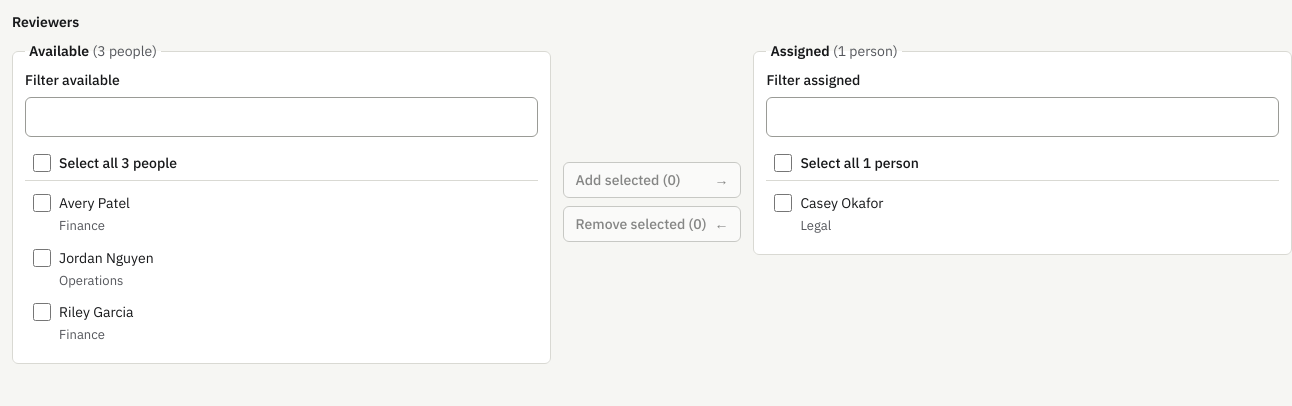
Test: TransferList › select-all covers only filtered matches, and hidden checks never move
Step 1. Click the checkbox labelled "Jordan Nguyen Operations" → point(42, 258), box [33,248,51,266]
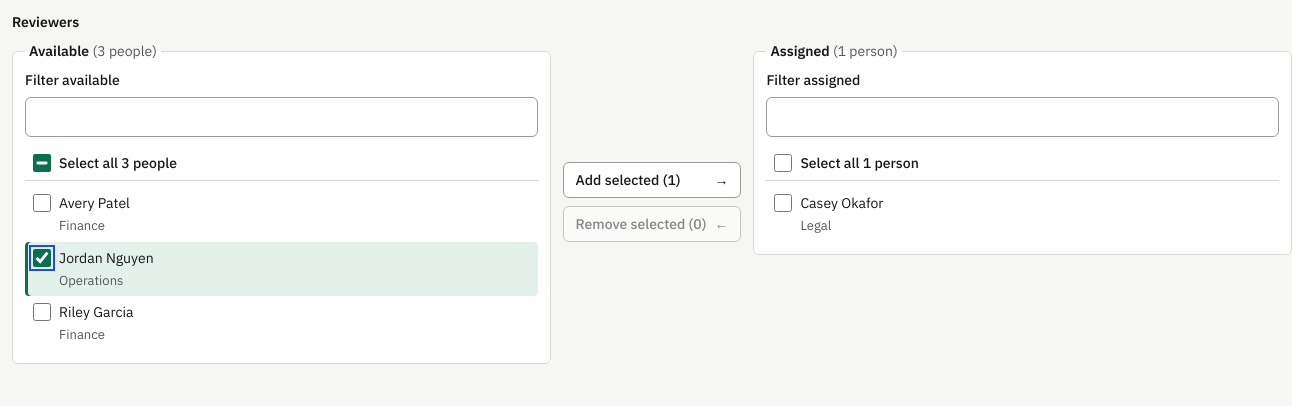
Step 2. Type "finance" into the search field labelled "Filter available" → point(281, 117), box [25,97,538,137]
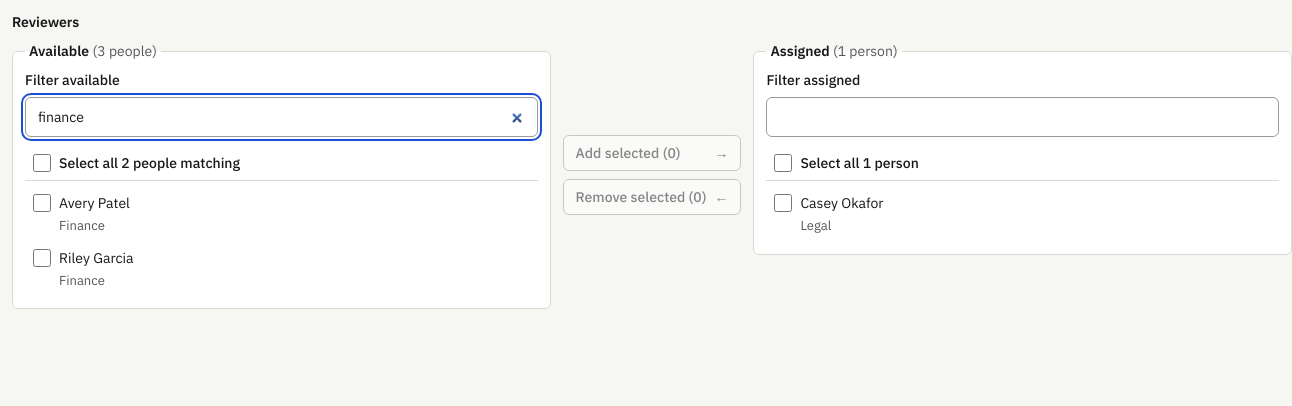
Step 3. Click the checkbox labelled "Select all 2 people matching" → point(42, 163), box [33,154,51,172]
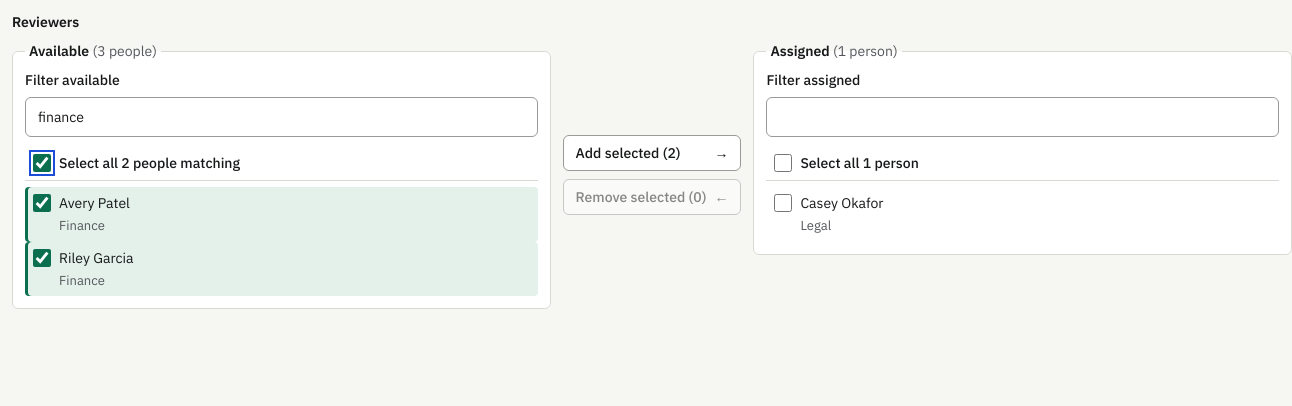
Note: Jordan is still checked but filtered out, so only the two visible people count.
Step 4. Click the button "Add selected (2) →" → point(652, 153), box [563,135,741,171]
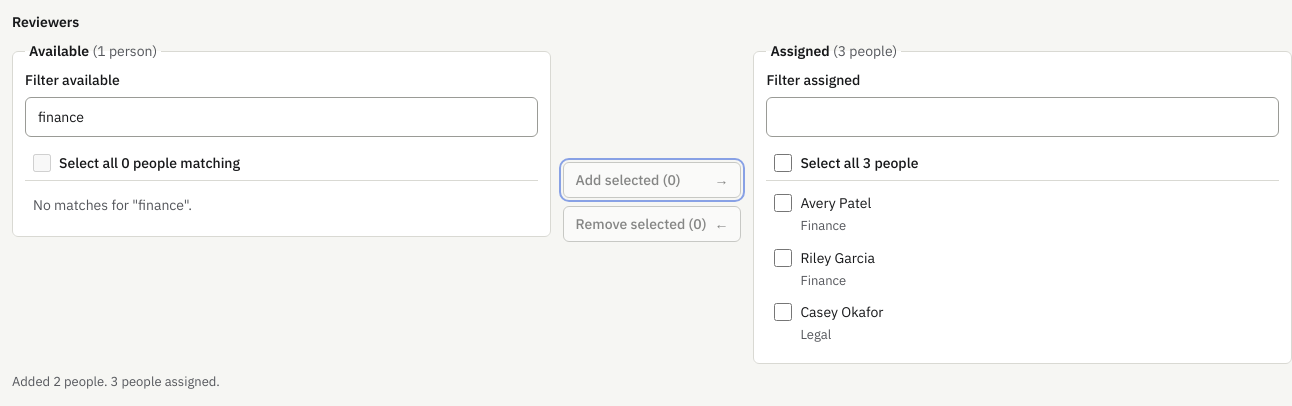
Result: the message reads "Added 2 people. 3 people assigned." at [12,372,220,390]
